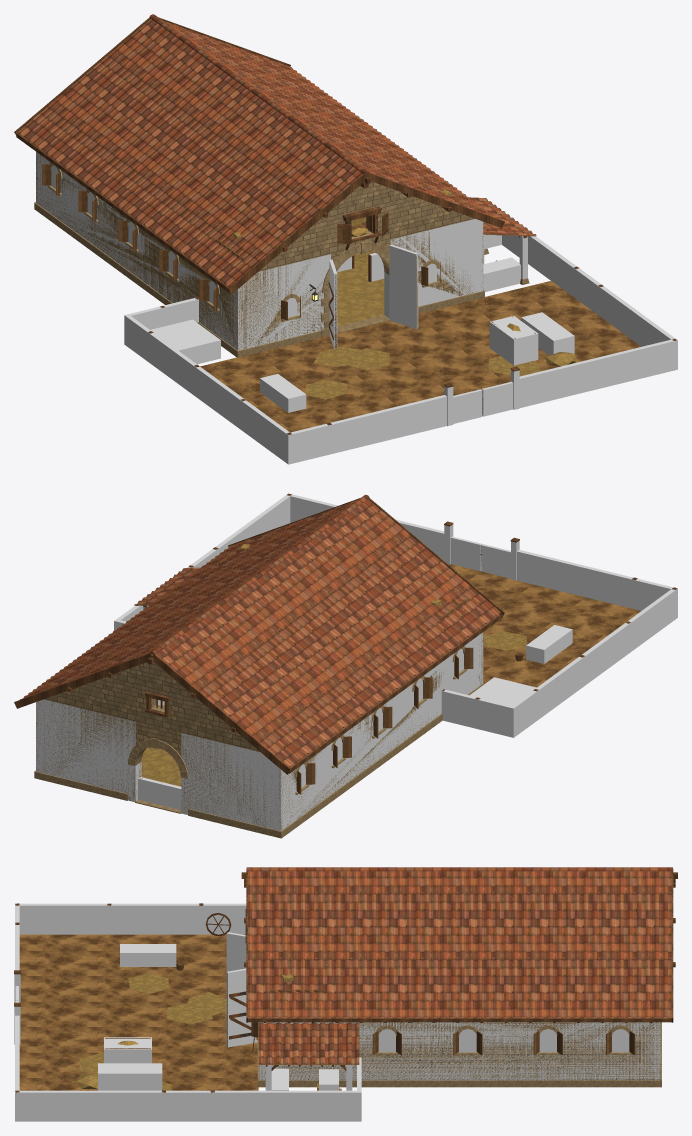
Rendered from barn-v41-lite.glb.
3 views of the same model, one above another, from view 1: azimuth 30°, elevation 25°; view 2: azimuth 150°, elevation 25°; view 3: azimuth 270°, elevation 25° (orthographic).
Visible parts, largest first — view 1: mesh_roof_tiles, mesh_yard_ground, mesh_stone_block, mesh_stone, col_wall_left, mesh_straw, col_fence_2, mesh_wood, col_wall_front_l, col_fence_0, col_fence_1, col_fence_4 (+12 smaller); view 2: mesh_roof_tiles, mesh_stone, mesh_yard_ground, col_wall_left, col_wall_back_r, col_wall_back_l, mesh_stone_block, col_fence_2, mesh_wood, col_fence_0, col_fence_3, mesh_straw (+9 smaller); view 3: mesh_roof_tiles, mesh_yard_ground, mesh_stone_block, col_wall_right, col_fence_4, col_fence_2, mesh_wood, mesh_straw, col_crib_bales, mesh_wood_light, col_door_barn_r, col_yard_trough (+5 smaller).
Part boxes in pixels (x1,y1,x2,y2): mesh_roof_tiles: (17,14,536,287); mesh_yard_ground: (200,281,641,432); mesh_stone_block: (34,152,529,357); mesh_stone: (238,173,483,350); col_wall_left: (36,152,248,350); mesh_straw: (233,189,576,399); col_fence_2: (124,314,292,464); mesh_wood: (14,17,676,434); col_wall_front_l: (248,254,330,347); col_fence_0: (286,395,446,464); col_fence_1: (519,339,677,407); col_fence_4: (502,235,677,370); mesh_roof_tiles: (20,494,501,768); mesh_stone: (36,654,280,829); mesh_yard_ground: (448,564,640,687); col_wall_left: (270,632,483,831); col_wall_back_r: (46,700,141,801); col_wall_back_l: (181,733,270,828); mesh_stone_block: (34,632,484,838); col_fence_2: (509,588,677,737); mesh_wood: (14,493,677,778); col_fence_0: (517,550,677,618); col_fence_3: (441,689,516,737); mesh_straw: (141,544,527,786); mesh_roof_tiles: (246,867,672,1064); mesh_yard_ground: (19,934,258,1090); mesh_stone_block: (256,1022,661,1087); col_wall_right: (258,1022,660,1080); col_fence_4: (15,1090,361,1121); col_fence_2: (19,903,246,934); mesh_wood: (14,869,677,1092); mesh_straw: (76,972,341,1090); col_crib_bales: (98,1063,162,1090); mesh_wood_light: (176,909,635,1064); col_door_barn_r: (226,968,257,1047); col_yard_trough: (120,944,176,966).
Bounding box in the file's own units: 22.24 × 8.79 × 33.02.
12 materials, 10 textured.
